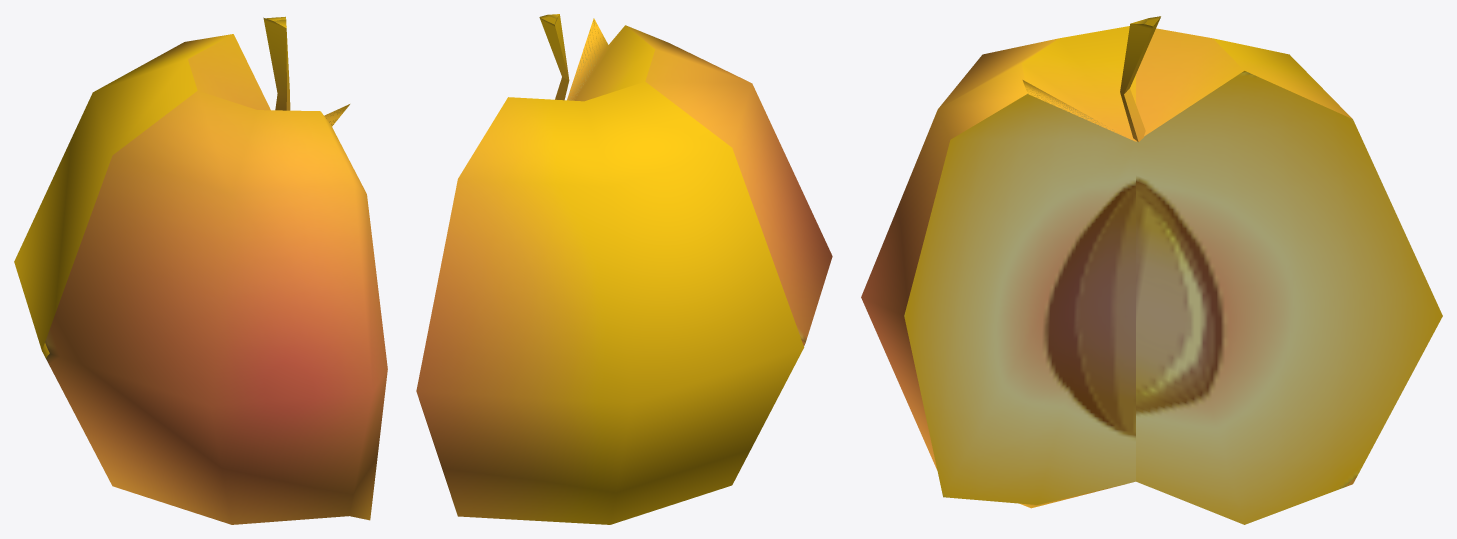
File: ApricotS.FBX
The picture shows the model from 3 angles, left to right: view 1: azimuth 30°, elevation 25°; view 2: azimuth 150°, elevation 25°; view 3: azimuth 270°, elevation 25°; orthographic projection. The views are drawn at different scales.
Parts seen in each view (by area): view 1: Apricot Slice; view 2: Apricot Slice; view 3: Apricot Slice.
Boxes of the visible parts, x1,y1,x2,y2 form: Apricot Slice: (14,16,387,524); Apricot Slice: (416,14,832,524); Apricot Slice: (861,16,1442,524).
Size of the model in its own units: 2.7 by 4.6 by 4.78.
